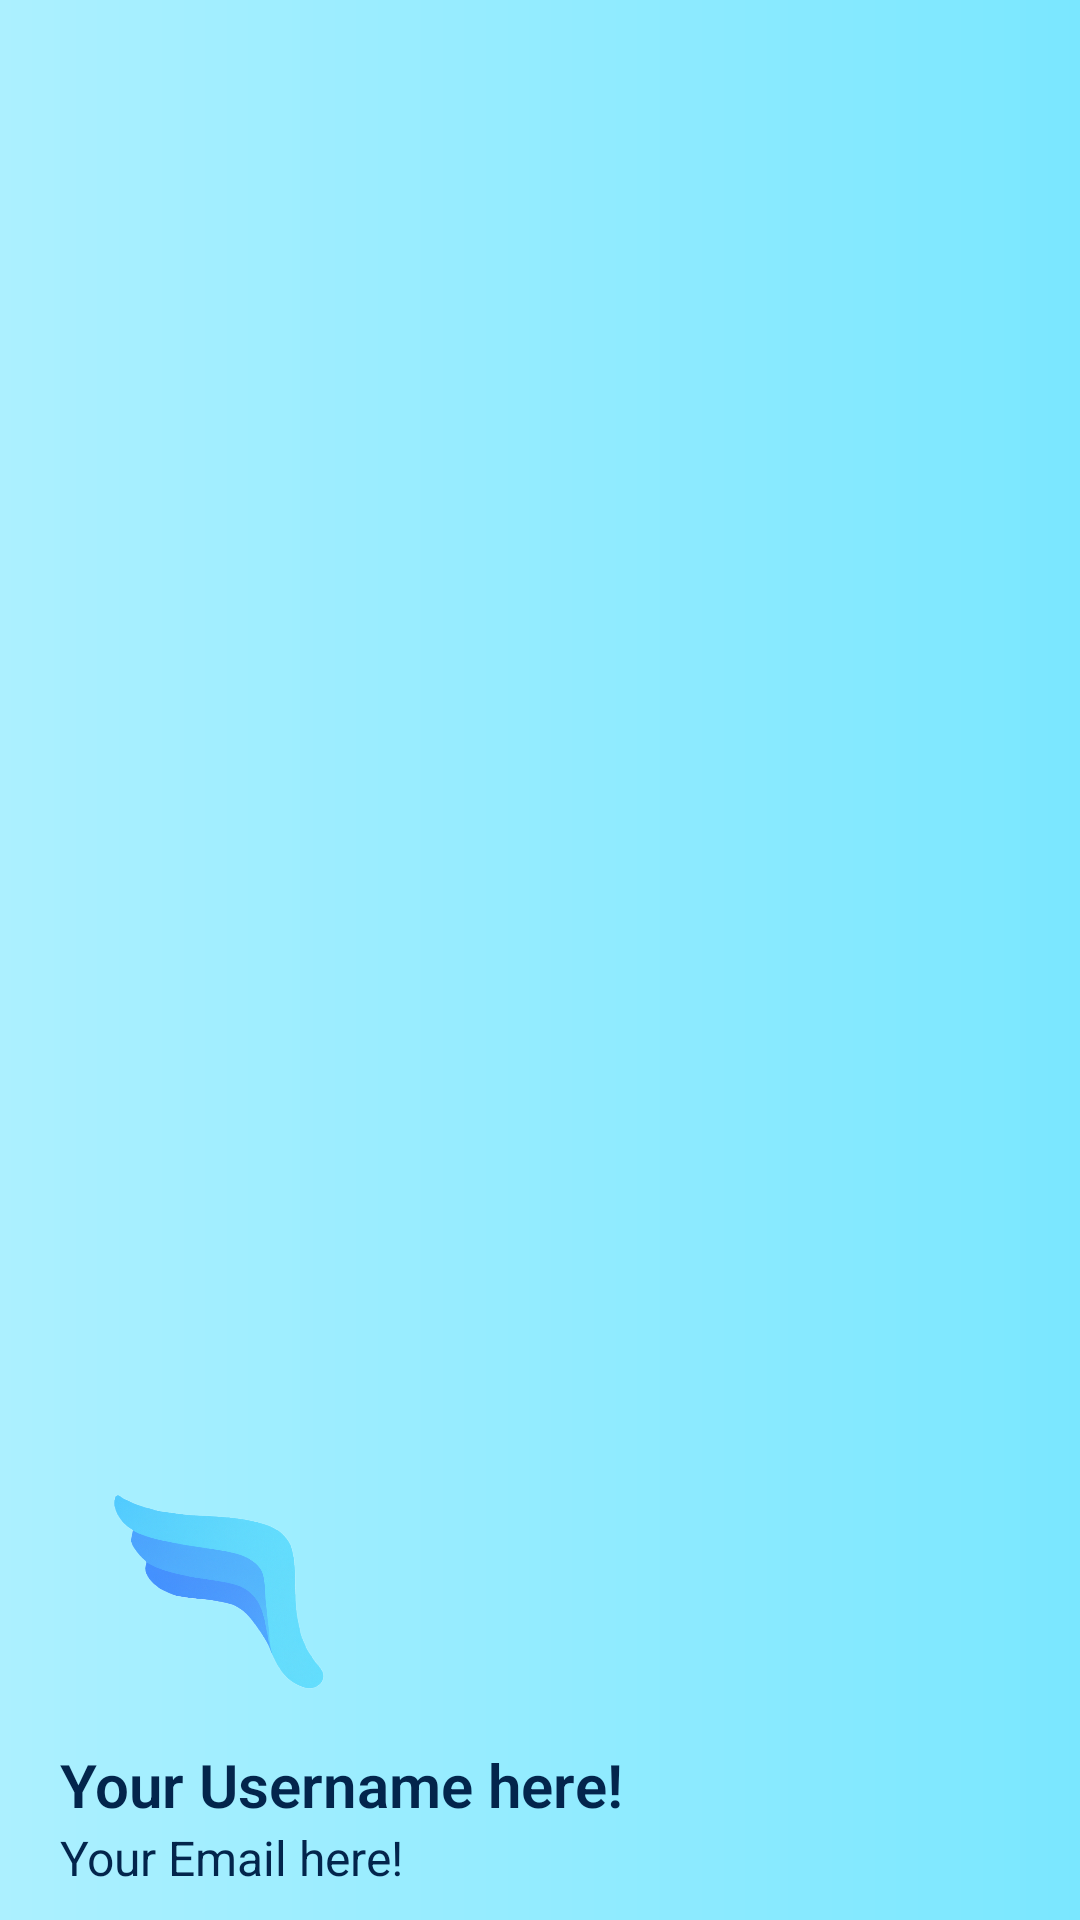

Where icons sit on this 1080×1920 app screen, as (x1, y1, x2, y2):
fly app: (114, 1495, 323, 1688)
